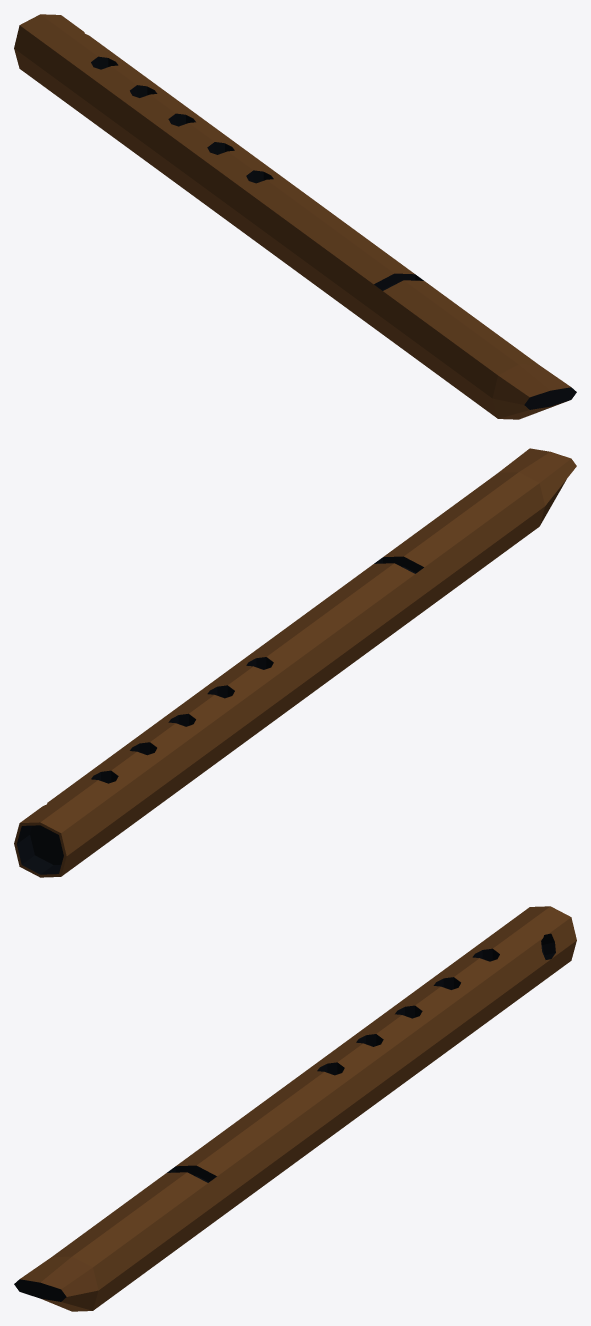
Rendered from Flute1.glb.
The picture shows the model from 3 angles, top to bottom: view 1: azimuth 30°, elevation 25°; view 2: azimuth 150°, elevation 25°; view 3: azimuth 330°, elevation 25°; orthographic projection.
Parts seen in each view (by area): view 1: Flute1; view 2: Flute1; view 3: Flute1.
Part boxes in pixels (left/top/right/bottom): Flute1: left=14, top=14, right=576, bottom=419; Flute1: left=14, top=448, right=576, bottom=877; Flute1: left=14, top=906, right=576, bottom=1311.
Size of the model in its own units: 0.0328 by 0.0328 by 0.5502.
